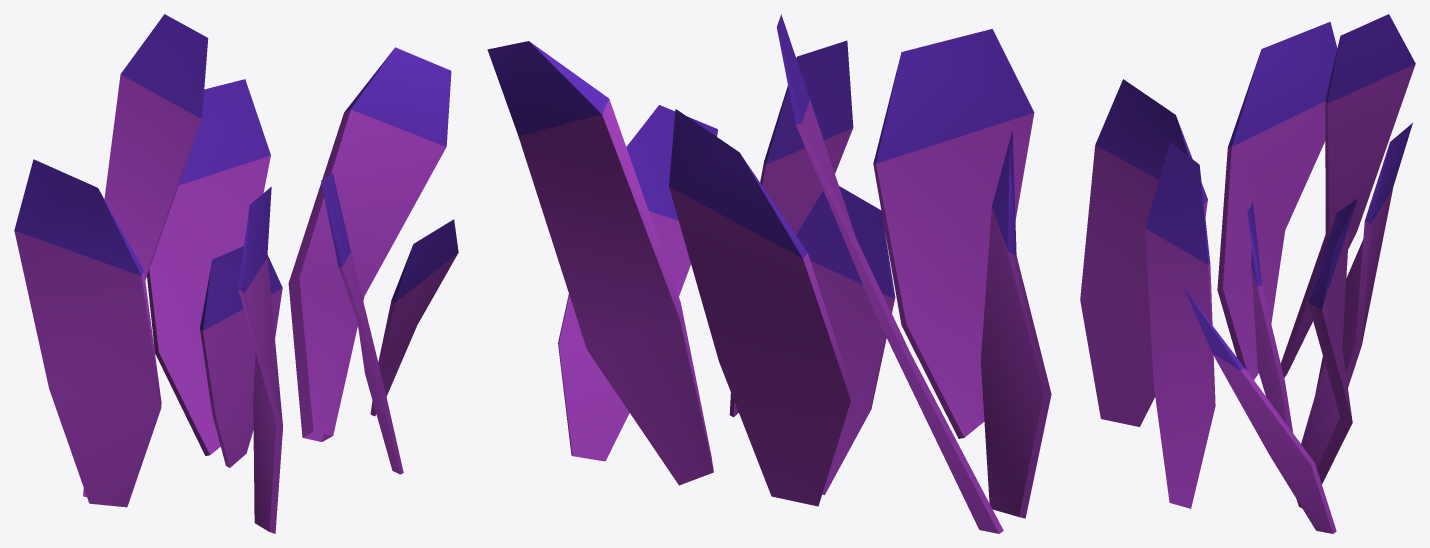
The model's file is plant_2.fbx.
3 views of the same model, side by side, from view 1: azimuth 30°, elevation 25°; view 2: azimuth 150°, elevation 25°; view 3: azimuth 270°, elevation 25° (orthographic). The views are drawn at different scales.
Visible parts, largest first — view 1: plant_2; view 2: plant_2; view 3: plant_2.
Part boxes in pixels (x1,y1,x2,y2): plant_2: (14,14,458,533); plant_2: (487,14,1051,533); plant_2: (1080,14,1415,533).
Size of the model in its own units: 42.62 by 40.33 by 27.96.
